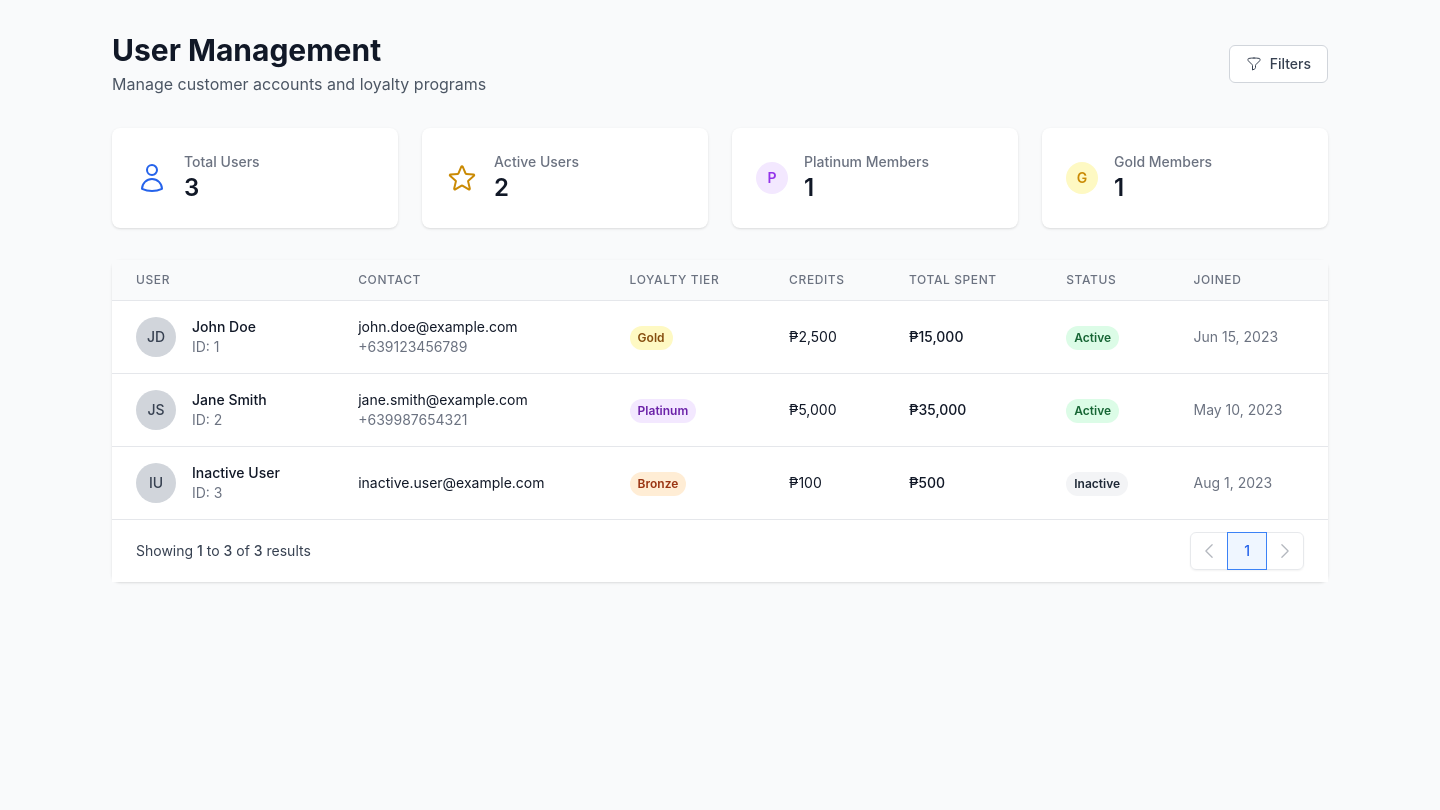
Test: UserManagementPage › opens filters panel when filters button is clicked
This screenshot has width=1440, height=810.
Expected: the text "John Doe" is shown, [192,317,256,337]
What coordinates should you click on to do the following:
click the button "Filters"
I would click on:
 (1278, 64)
Its box is [1229,45,1328,83].
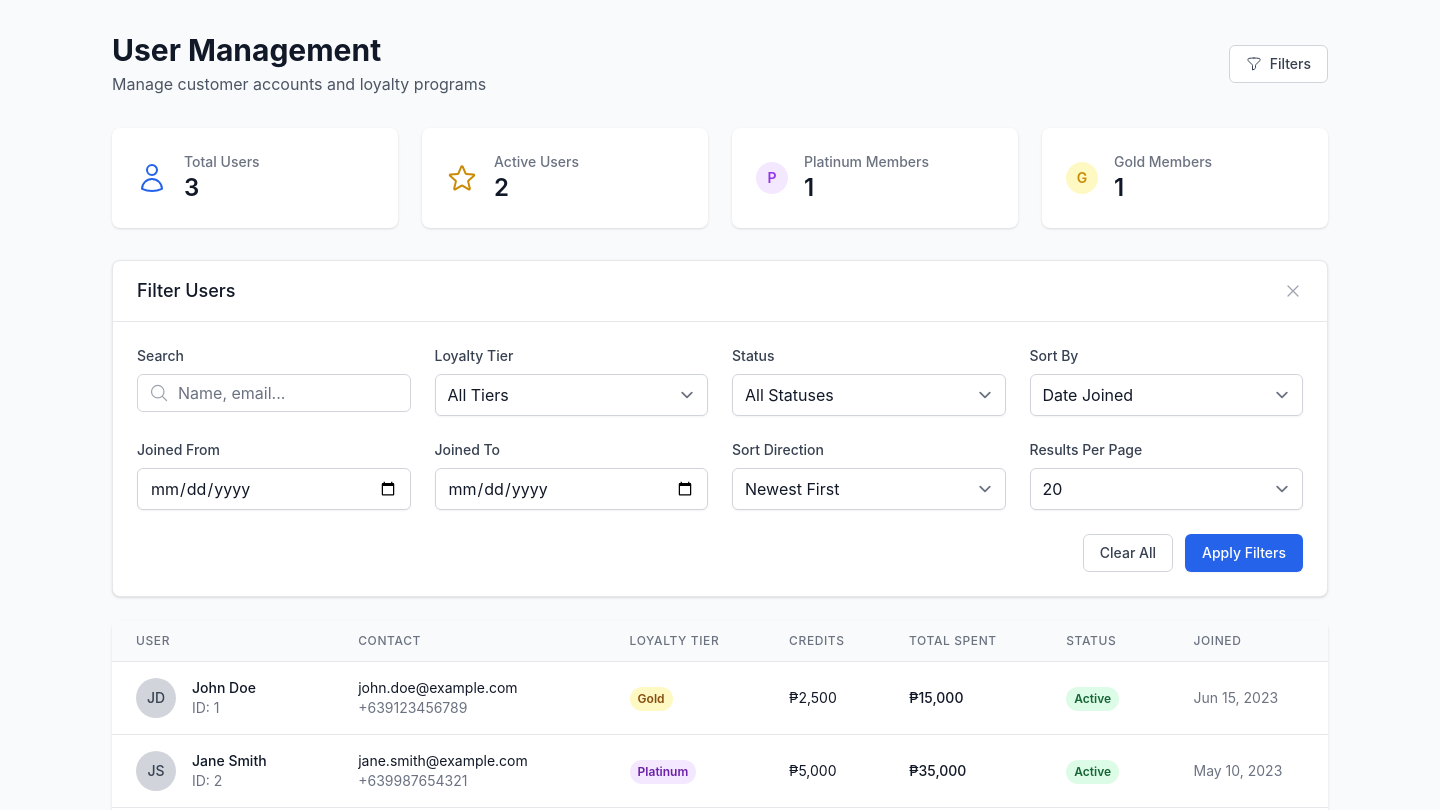
Now the heading "Filter Users" is shown, box [137,277,236,305]
